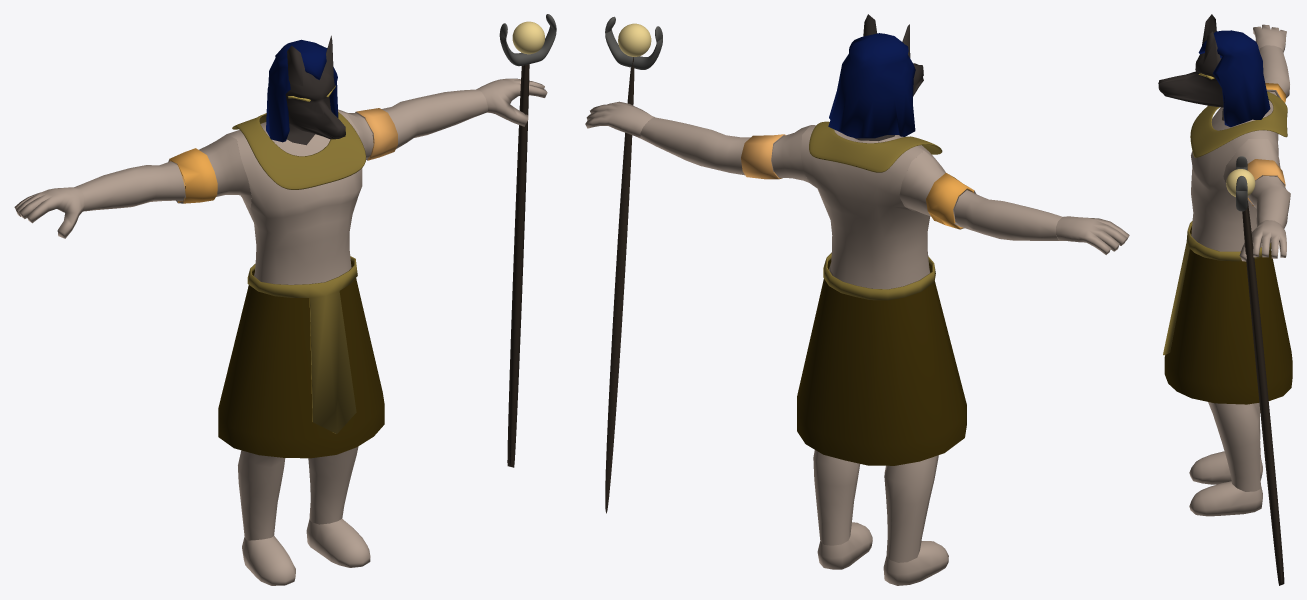
The model's file is Kötü Karakter Anubis.fbx.
The picture shows the model from 3 angles, left to right: view 1: azimuth 30°, elevation 25°; view 2: azimuth 150°, elevation 25°; view 3: azimuth 270°, elevation 25°; orthographic projection. The views are drawn at different scales.
Parts seen in each view (by area): view 1: Body_Hands.007, Body_Legs.001, Body_Feet, Body_Legs.002, Body_Hands.004, Cylinder, Body_Hands.001, Body_Hands, Body_Hands.003, Cube, Sphere; view 2: Body_Hands.007, Body_Legs.001, Body_Feet, Cylinder, Body_Hands.004, Body_Legs.002, Body_Hands, Body_Hands.001, Body_Hands.003, Cube, Sphere; view 3: Body_Hands.007, Body_Legs.001, Body_Feet, Cylinder, Body_Hands.004, Body_Legs.002, Body_Hands, Body_Hands.003, Cube, Sphere.
Part boxes in pixels (<box>): Body_Hands.007: <box>14,35,487,284</box>; Body_Legs.001: <box>218,261,384,458</box>; Body_Feet: <box>238,264,370,585</box>; Body_Legs.002: <box>247,256,357,433</box>; Body_Hands.004: <box>232,112,366,189</box>; Cylinder: <box>507,64,529,467</box>; Body_Hands.001: <box>169,148,217,203</box>; Body_Hands: <box>477,78,547,126</box>; Body_Hands.003: <box>356,108,397,160</box>; Cube: <box>499,14,556,66</box>; Sphere: <box>512,21,544,54</box>; Body_Hands.007: <box>640,14,1129,289</box>; Body_Legs.001: <box>797,258,966,465</box>; Body_Feet: <box>813,262,948,585</box>; Cylinder: <box>605,57,634,513</box>; Body_Hands.004: <box>809,121,942,172</box>; Body_Legs.002: <box>823,253,935,300</box>; Body_Hands: <box>585,101,654,138</box>; Body_Hands.001: <box>926,173,974,229</box>; Body_Hands.003: <box>741,134,785,179</box>; Cube: <box>605,16,662,69</box>; Sphere: <box>618,23,651,56</box>; Body_Hands.007: <box>1158,14,1290,251</box>; Body_Legs.001: <box>1164,226,1292,404</box>; Body_Feet: <box>1189,234,1262,516</box>; Cylinder: <box>1242,201,1284,585</box>; Body_Hands.004: <box>1190,91,1287,157</box>; Body_Legs.002: <box>1163,221,1271,355</box>; Body_Hands: <box>1239,220,1286,261</box>; Body_Hands.003: <box>1247,159,1285,206</box>; Cube: <box>1236,156,1247,211</box>; Sphere: <box>1226,169,1255,196</box>.
Bounding box in the file's own units: 20098 × 19363 × 4999.
